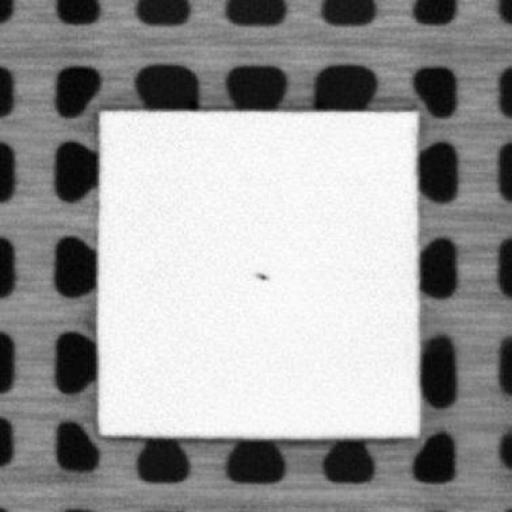DIE_INK: (252, 267, 265, 281)
